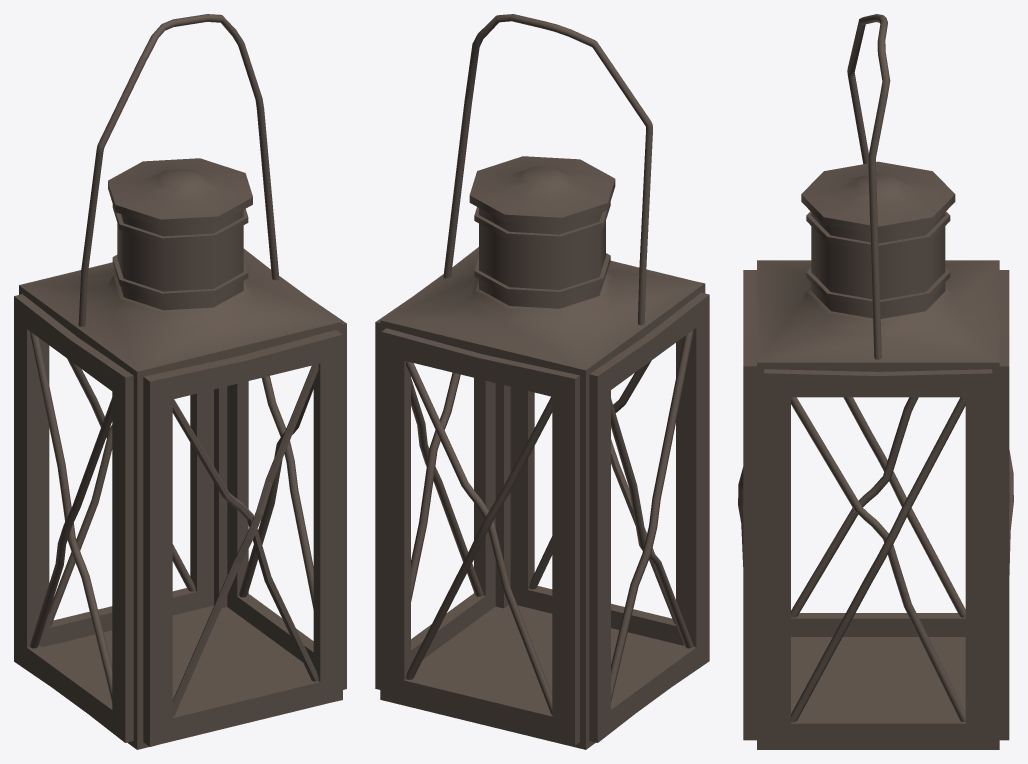
File: Light.fbx
3 views of the same model, side by side, from view 1: azimuth 30°, elevation 25°; view 2: azimuth 150°, elevation 25°; view 3: azimuth 270°, elevation 25° (orthographic). The views are drawn at different scales.
Parts seen in each view (by area): view 1: Light, Light_Door; view 2: Light, Light_Door; view 3: Light, Light_Door.
Boxes of the visible parts, x1=… form: Light: x1=14, y1=14, x2=346, y2=749; Light_Door: x1=143, y1=330, x2=342, y2=746; Light: x1=375, y1=14, x2=709, y2=749; Light_Door: x1=510, y1=282, x2=705, y2=645; Light: x1=757, y1=14, x2=1013, y2=749; Light_Door: x1=738, y1=270, x2=756, y2=740.
Bounding box in the file's own units: 19.92 × 54.86 × 20.27.
